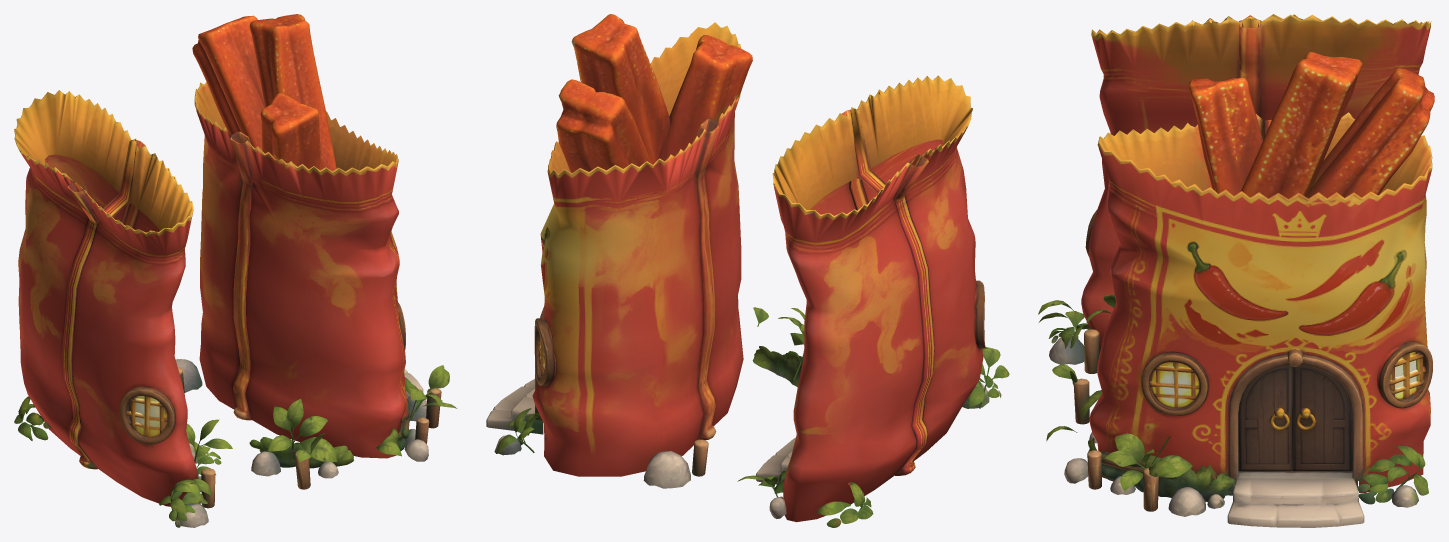
Rendered from ch02-snack-shop.glb.
3 renders of one model, left to right at view 1: azimuth 30°, elevation 25°; view 2: azimuth 150°, elevation 25°; view 3: azimuth 270°, elevation 25°, orthographic. The views are drawn at different scales.
Parts seen in each view (by area): view 1: tripo_node_b3288c71-a55e-4069-91dc-93d4ae5a2fac; view 2: tripo_node_b3288c71-a55e-4069-91dc-93d4ae5a2fac; view 3: tripo_node_b3288c71-a55e-4069-91dc-93d4ae5a2fac.
Boxes of the visible parts, <box> form: tripo_node_b3288c71-a55e-4069-91dc-93d4ae5a2fac: <box>14,14,457,527</box>; tripo_node_b3288c71-a55e-4069-91dc-93d4ae5a2fac: <box>486,14,1009,527</box>; tripo_node_b3288c71-a55e-4069-91dc-93d4ae5a2fac: <box>1038,14,1434,527</box>.
Size of the model in its own units: 0.9995 by 0.9985 by 0.8608.
1 material, 1 textured.
